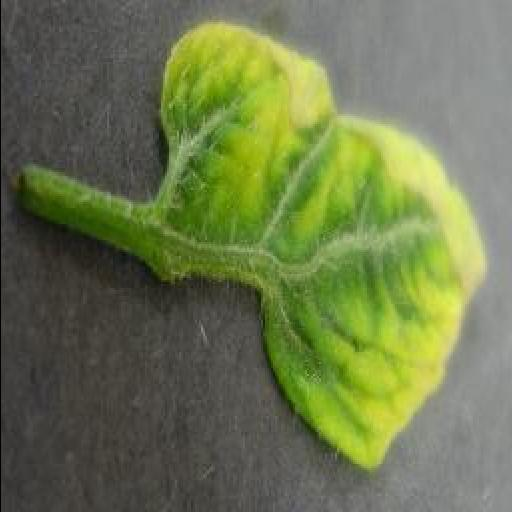disease_tomato: (152, 20, 486, 470)
